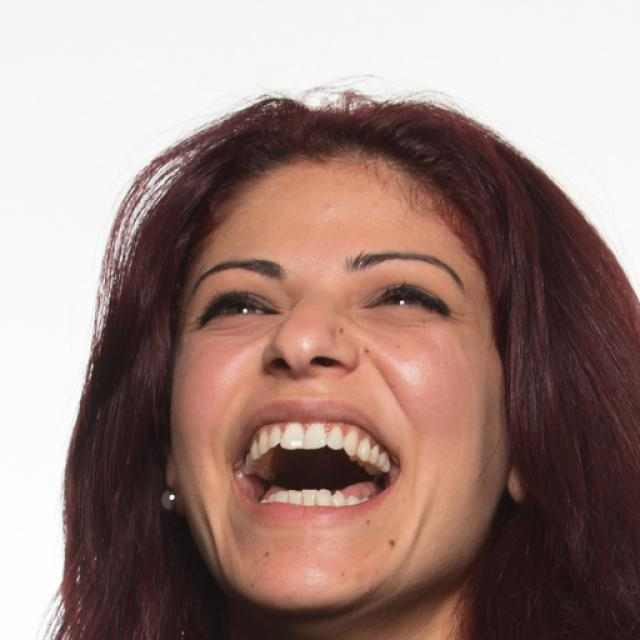Acne: (316, 198, 338, 214)
